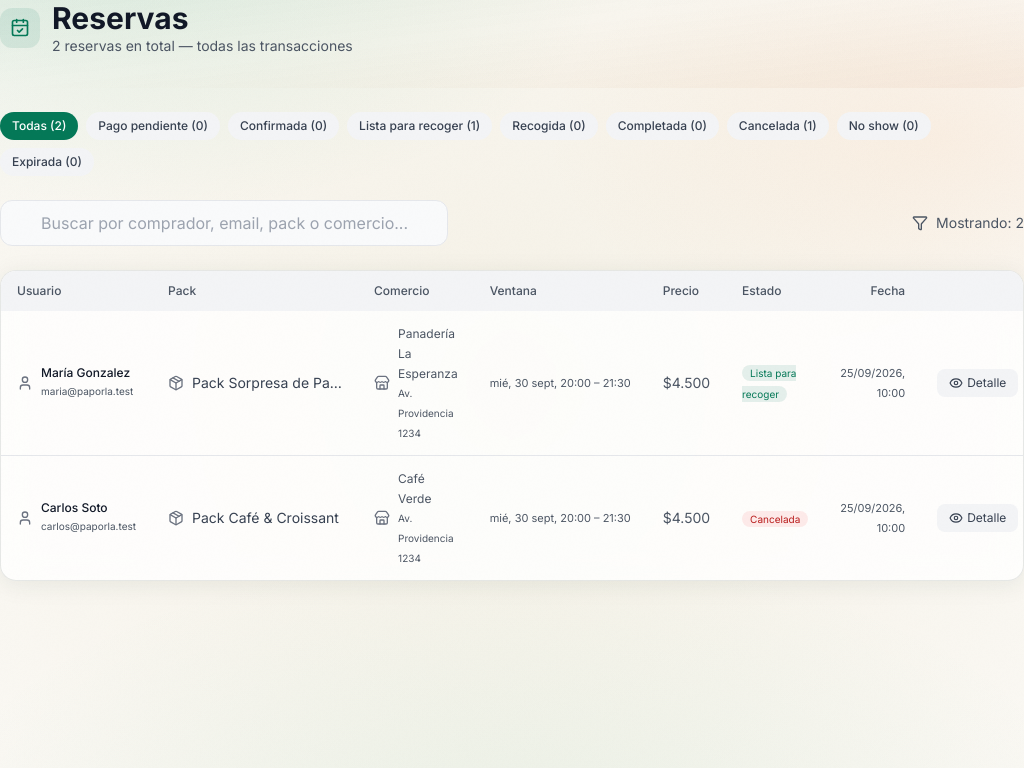
Test: AdminReservationsPage (ADMIN-1) › muestra las reservas y abre la ficha con el botón Detalle
Expected: the text "María Gonzalez" is shown, [41,365,133,381]
Expected: the text "Carlos Soto" is shown, [41,500,108,515]
Click the button "Detalle" in the row of "María Gonzalez" at (978, 383), box [937,369,1018,397]
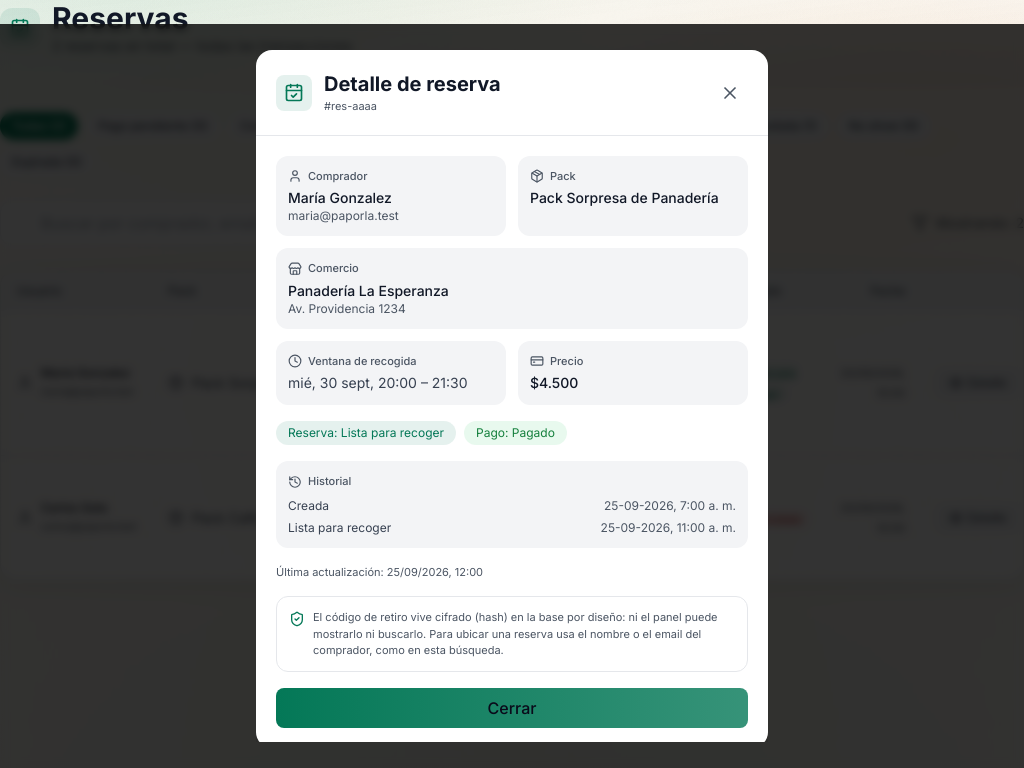
Expected: the heading "Detalle de reserva" is shown, [324,70,501,98]
Expected: the text "Reserva: Lista para recoger" is shown, [276,421,456,445]
Expected: the text "Pago: Pagado" is shown, [464,421,567,445]
